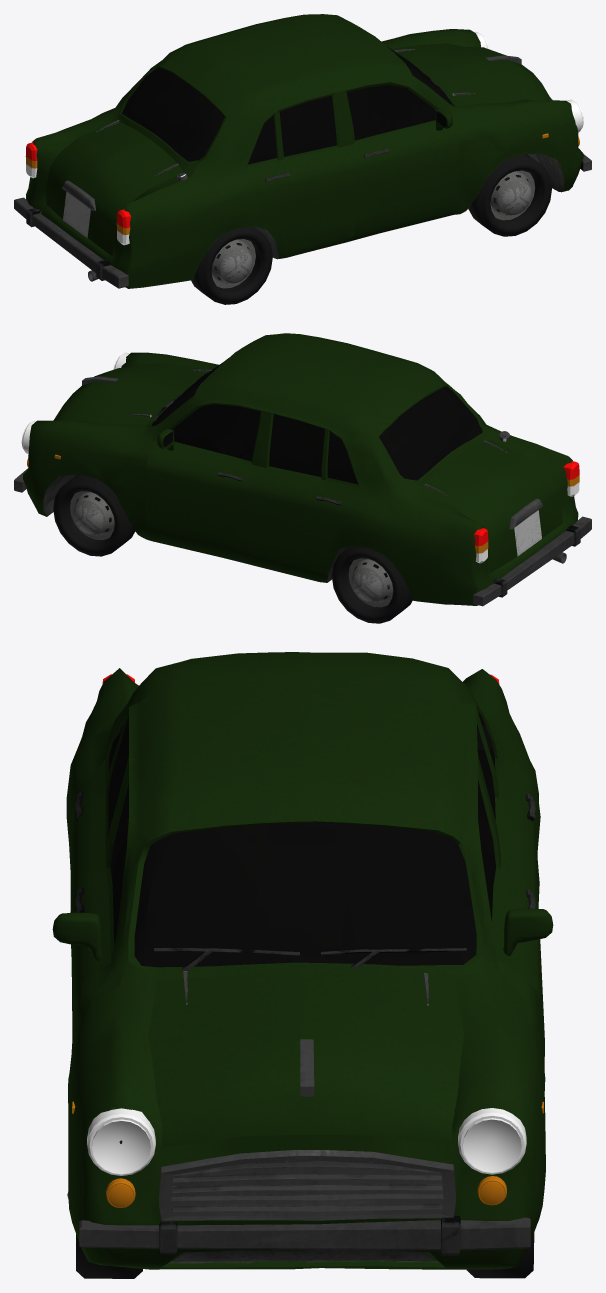
Rendered from hindustan_ambassador.glb.
The picture shows the model from 3 angles, top to bottom: view 1: azimuth 30°, elevation 25°; view 2: azimuth 150°, elevation 25°; view 3: azimuth 270°, elevation 25°; orthographic projection. The views are drawn at different scales.
Parts seen in each view (by area): view 1: AmbassadorBody, FrontWheelR, RearWheelR; view 2: AmbassadorBody, FrontWheelL, RearWheelL; view 3: AmbassadorBody, FrontWheelR, FrontWheelL.
Boxes of the visible parts, <box> form: AmbassadorBody: <box>14,14,591,288</box>; FrontWheelR: <box>468,154,551,236</box>; RearWheelR: <box>191,226,272,304</box>; AmbassadorBody: <box>14,333,591,606</box>; FrontWheelL: <box>53,475,135,556</box>; RearWheelL: <box>331,546,412,623</box>; AmbassadorBody: <box>52,652,553,1269</box>; FrontWheelR: <box>67,1192,142,1278</box>; FrontWheelL: <box>466,1233,534,1278</box>.
Bounding box in the file's own units: 4.41 × 1.71 × 2.01.
2 materials, 2 textured.
